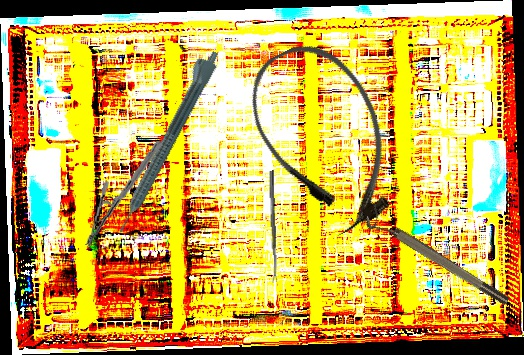Cannula: (230, 26, 419, 249)
Fixation Ring: (362, 206, 512, 314)
Handpiece: (106, 44, 223, 236)
Needle Holder: (84, 134, 163, 253)
Surgical Spoon: (268, 170, 278, 283)
